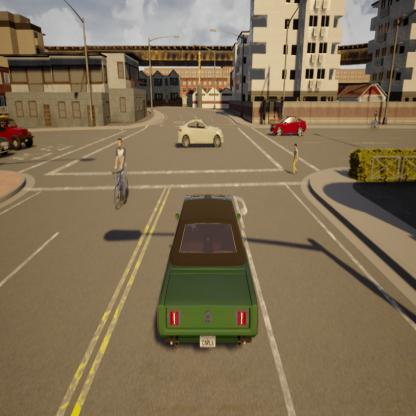Cars: (149, 177, 264, 374), (177, 116, 229, 151), (0, 108, 38, 153), (270, 115, 310, 140), (0, 130, 15, 159)
Pedestrian: (287, 133, 302, 179)
